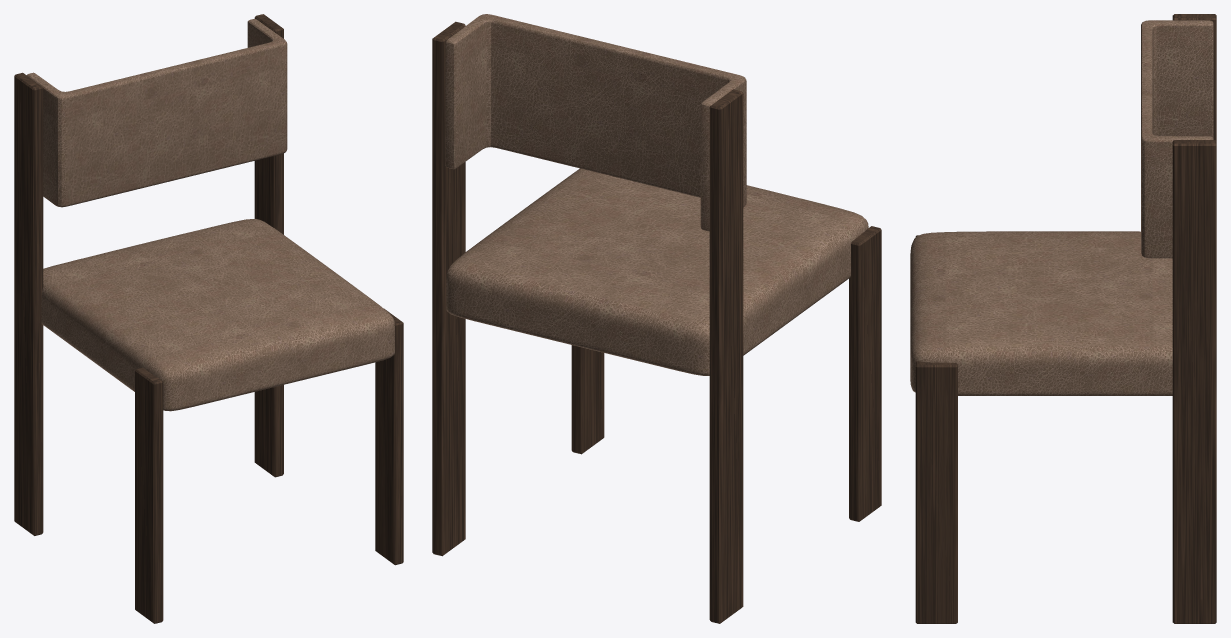
The model's file is CGT_Chair_002.glb.
3 views of the same model, side by side, from view 1: azimuth 30°, elevation 25°; view 2: azimuth 150°, elevation 25°; view 3: azimuth 270°, elevation 25° (orthographic). The views are drawn at different scales.
Visible parts, largest first — view 1: CGT_Chair_002; view 2: CGT_Chair_002; view 3: CGT_Chair_002.
Part boxes in pixels (x1,y1,x2,y2): CGT_Chair_002: (14,14,403,623); CGT_Chair_002: (432,14,881,623); CGT_Chair_002: (910,14,1216,623).
Size of the model in its own units: 0.4834 by 0.8251 by 0.4775.
2 materials, 2 textured.
